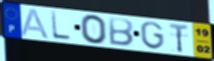A: (20, 8, 51, 40)
B: (108, 16, 135, 47)
G: (139, 21, 166, 51)
L: (50, 10, 73, 42)
O: (79, 14, 109, 45)
T: (168, 22, 190, 54)
